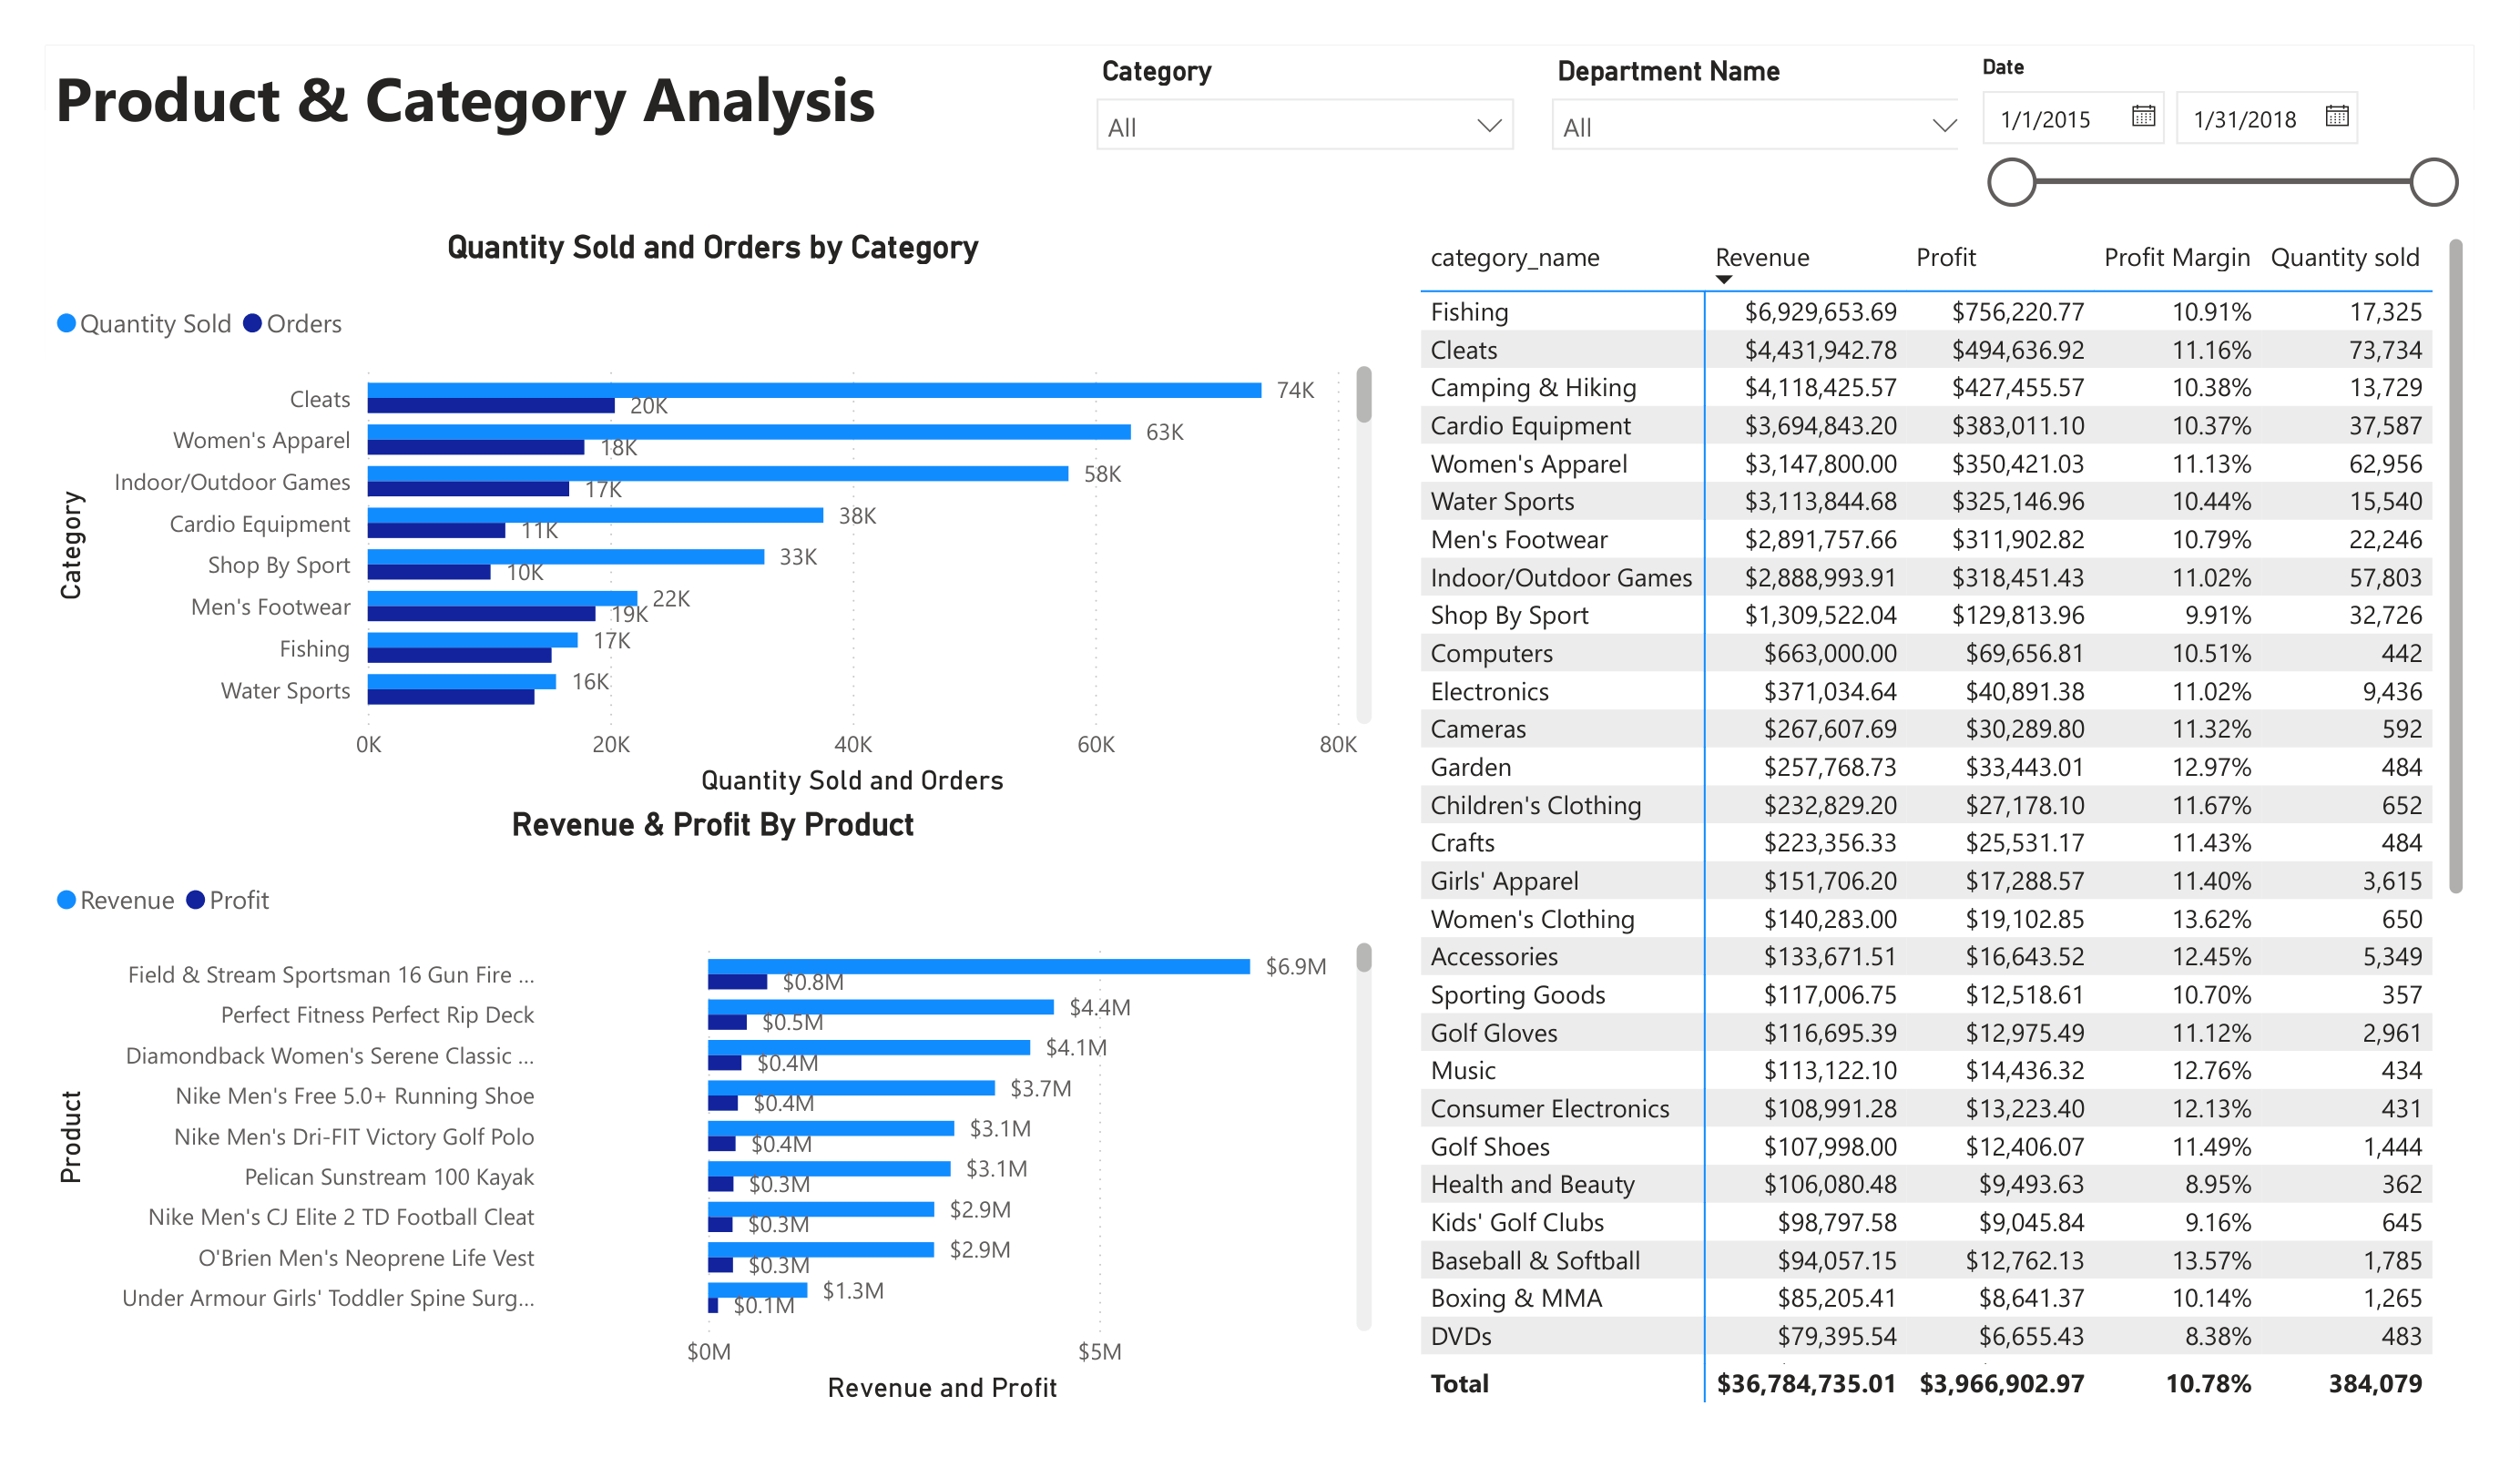

Layout of this report page (visuals, bound fields, positions):
{"tool":"powerbi","page":{"name":"Page 2","canvas":[1280,720],"ordinal":1},"visuals":[{"type":"textbox","box":[0,0,544,80],"z":0},{"type":"slicer","fields":{"Values":["dataco products.category_name"]},"box":[544,0,240,80],"z":1000},{"type":"slicer","fields":{"Values":["dataco products.department_name"]},"box":[784,0,240,80],"z":2000},{"type":"slicer","fields":{"Values":["dataco orders.order_date_dateorders"]},"box":[1008,0,272,96],"z":3000},{"type":"clusteredBarChart","title":"Revenue & Profit By Product","fields":{"Y":["Sum(dataco order_items.sales)","Sum(dataco order_items.order_profit_per_order)"],"Category":["dataco products.product_name"]},"box":[0,400,704,320],"z":4000},{"type":"pivotTable","fields":{"Rows":["dataco products.category_name"],"Values":["Sum(dataco order_items.sales)","Sum(dataco order_items.order_profit_per_order)","dataco order_items.Profit Margin","Sum(dataco order_items.order_item_quantity)"]},"box":[720,96,560,624],"z":5000},{"type":"clusteredBarChart","fields":{"Category":["dataco products.category_name"],"Y":["Sum(dataco order_items.order_item_quantity)","Count(dataco orders.order_id)"]},"box":[0,96,704,304],"z":6000}]}

Visuals, with their boxes on the page's 1280x720 design canvas (x1, y1, x2, y2). These are canvas units, not pixel positions in the 2520x1457 screenshot, which may show the page scaled, cropped or inside an application window:
textbox: (left=0, top=0, right=544, bottom=80)
slicer - dataco products.category_name: (left=544, top=0, right=784, bottom=80)
slicer - dataco products.department_name: (left=784, top=0, right=1024, bottom=80)
slicer - dataco orders.order_date_dateorders: (left=1008, top=0, right=1280, bottom=96)
"Revenue & Profit By Product" clusteredBarChart: (left=0, top=400, right=704, bottom=720)
pivotTable - dataco products.category_name x Sum(dataco order_items.sales): (left=720, top=96, right=1280, bottom=720)
clusteredBarChart - dataco products.category_name x Sum(dataco order_items.order_item_quantity): (left=0, top=96, right=704, bottom=400)
